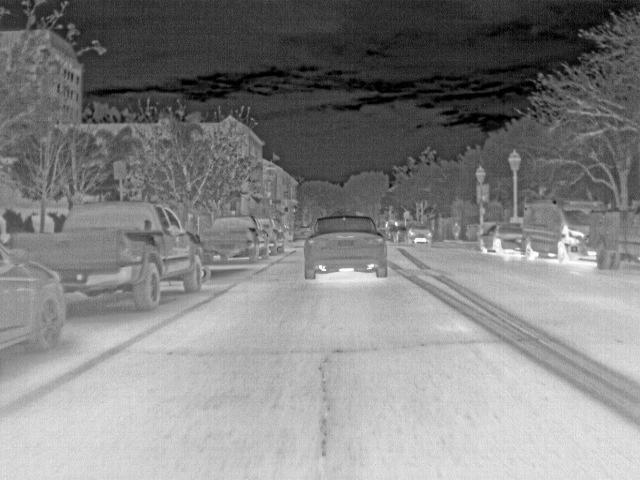car: (63, 199, 200, 309), (1, 244, 63, 352), (305, 215, 389, 278), (523, 198, 593, 262), (200, 214, 266, 264), (592, 206, 639, 272), (479, 221, 523, 254), (1, 230, 62, 244), (258, 217, 276, 258), (406, 222, 432, 244), (273, 217, 288, 255), (292, 225, 312, 241), (397, 226, 410, 243), (389, 226, 401, 243), (377, 228, 390, 236)
person: (452, 219, 462, 240)
